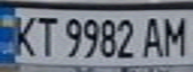2: (115, 16, 142, 60)
8: (100, 16, 121, 60)
9: (60, 14, 84, 58), (78, 15, 100, 60)
A: (139, 13, 169, 60)
K: (6, 11, 42, 58)
M: (157, 12, 190, 57)
T: (30, 12, 60, 59)
